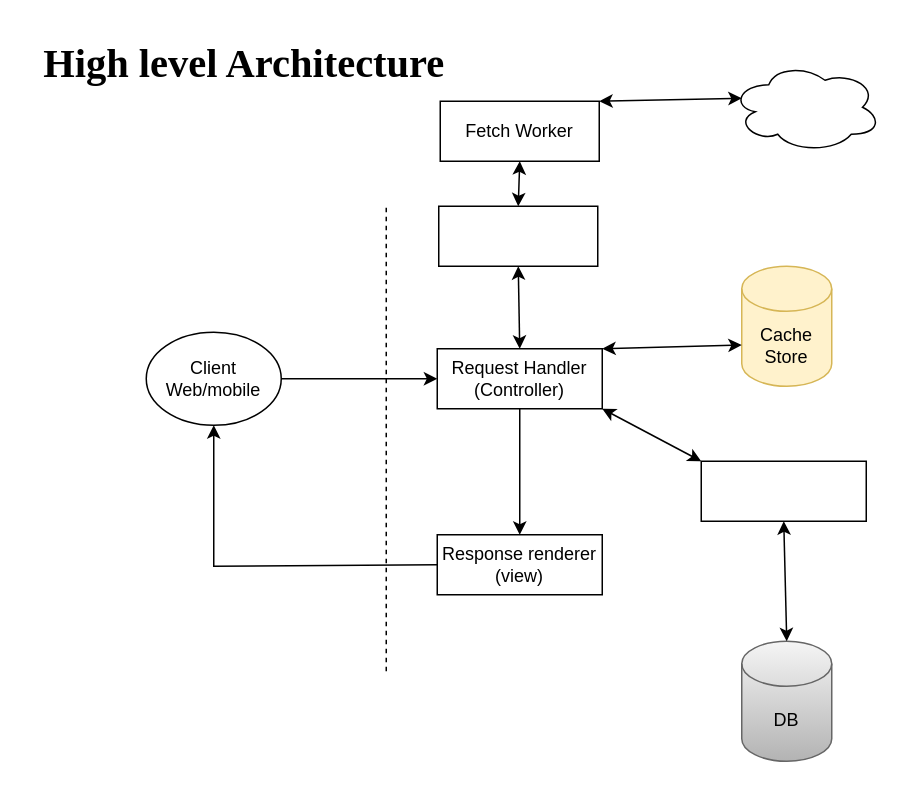
This 908x788 diagram has some shape labels left out. Here are the shapes that lost their labels. From the top down, the centre of each, then its label:
the point at 805,106: External Server
the point at 517,235: Fetch Service
the point at 783,490: Data Mapper (model)
